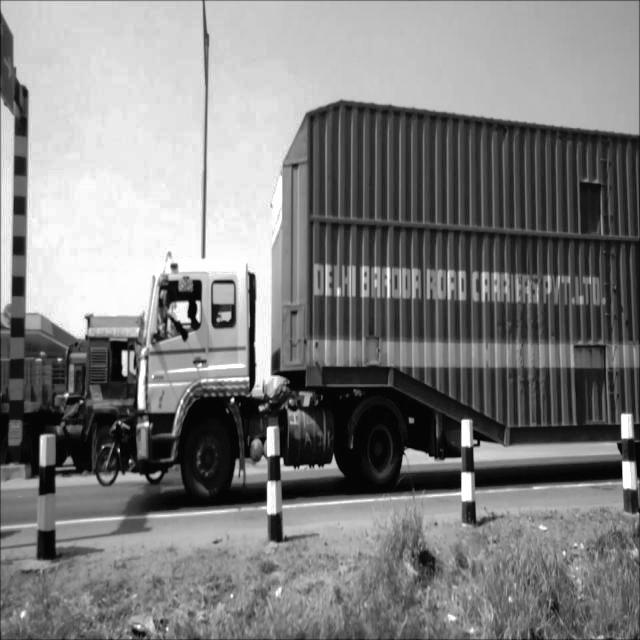HCV: (135, 94, 640, 442)
